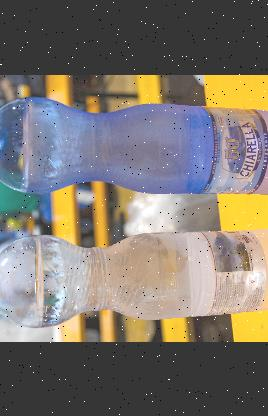Plastic Bottle: (0, 228, 268, 327), (0, 96, 268, 193)
